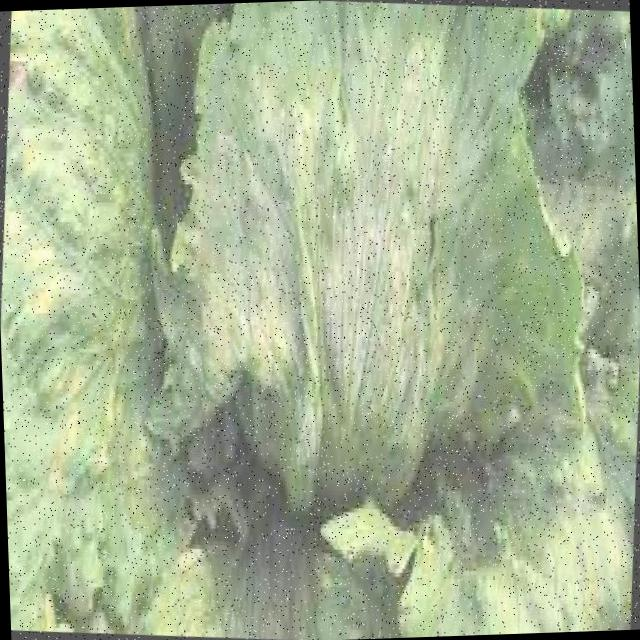Downy_Mildew: (203, 19, 486, 374)
